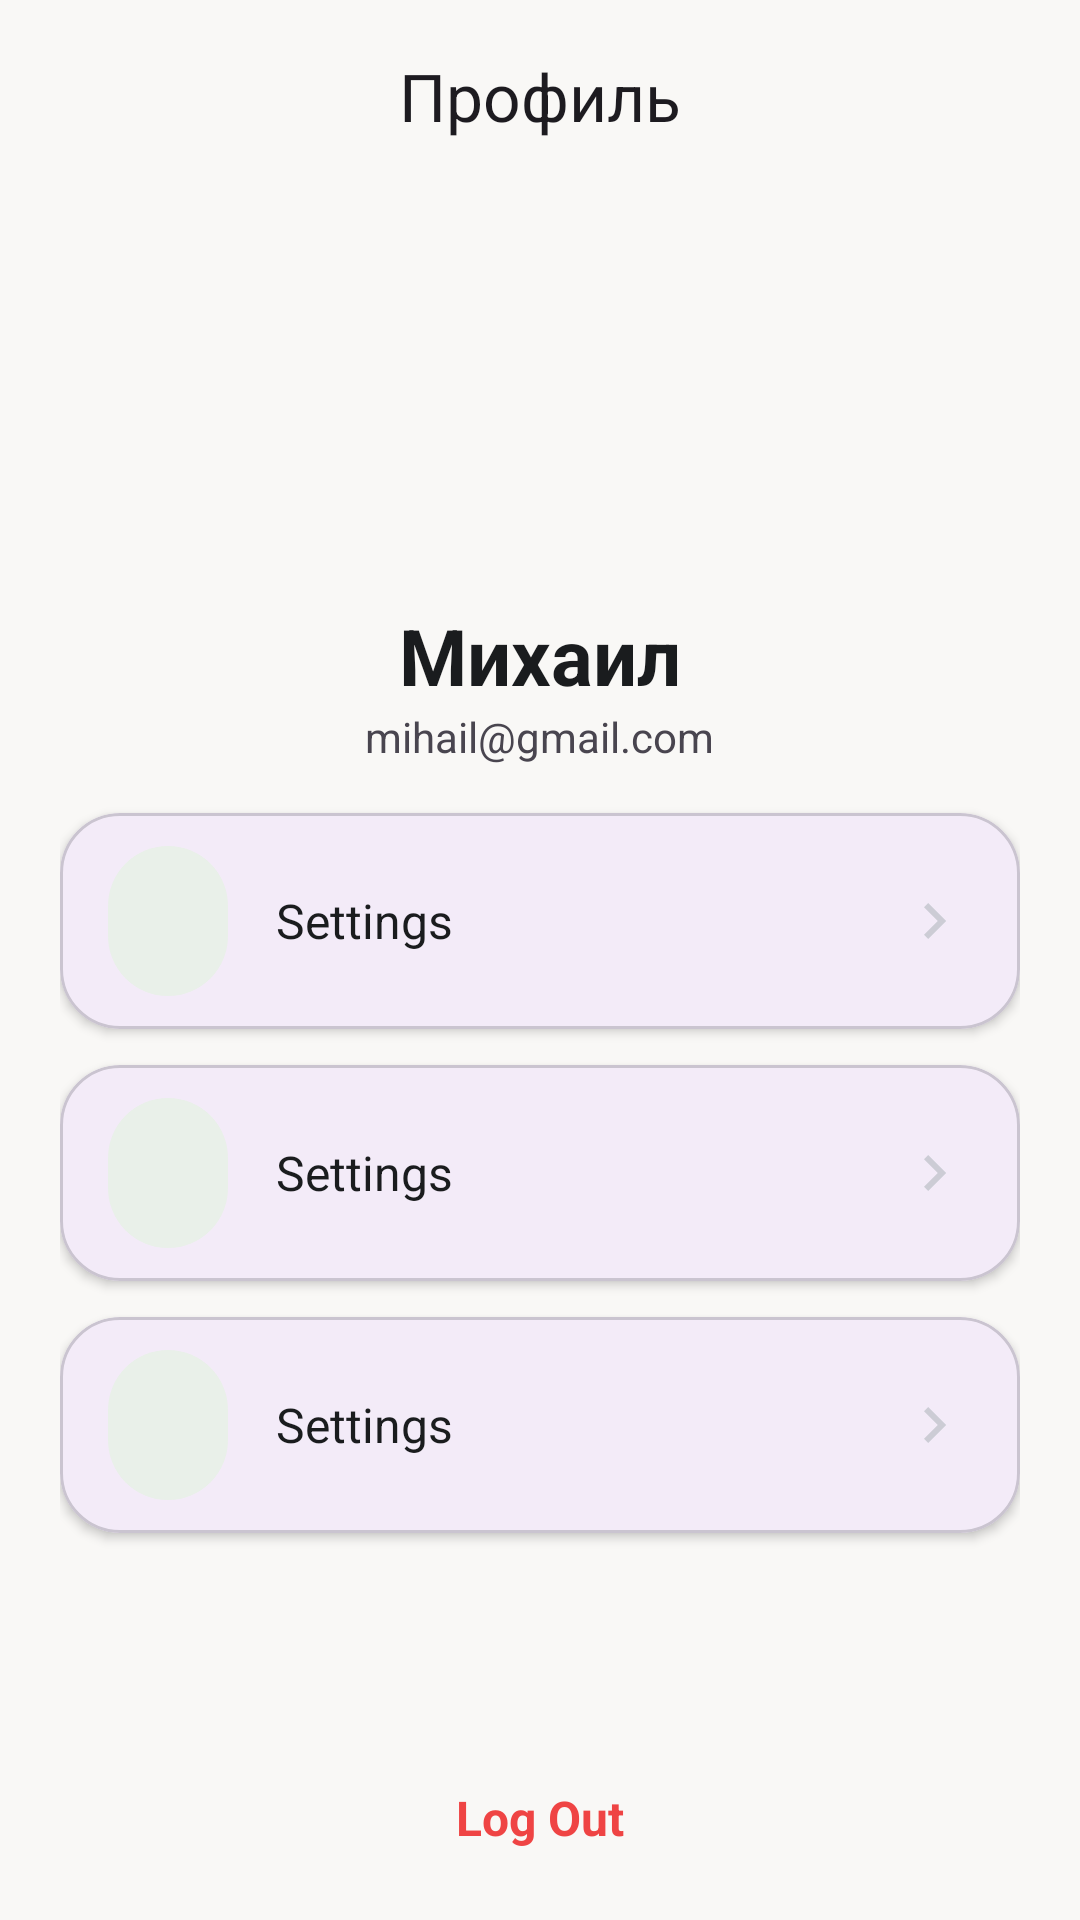

Where to tap for icons on this 1080 x 1920 app screen, as (x=x, y=y):
chevron right: (x=935, y=921), (x=935, y=1173), (x=935, y=1425)
